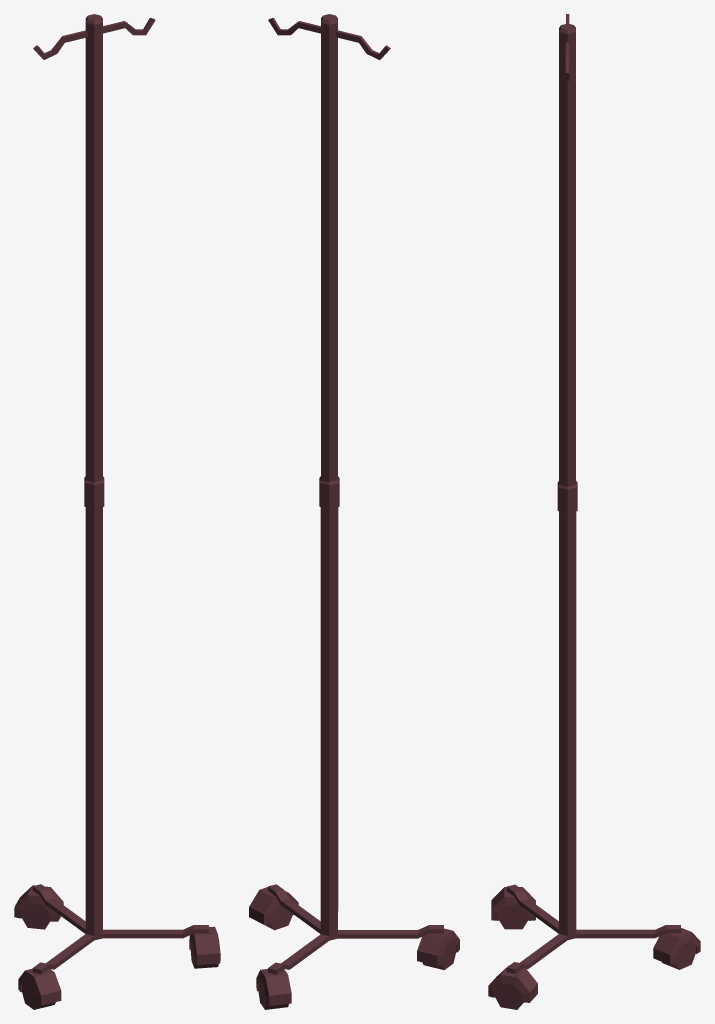
File: iv-pole-empty.fbx
3 views of the same model, side by side, from view 1: azimuth 30°, elevation 25°; view 2: azimuth 150°, elevation 25°; view 3: azimuth 270°, elevation 25° (orthographic).
Visible parts, largest first — view 1: iv-pole-empty; view 2: iv-pole-empty; view 3: iv-pole-empty.
Part boxes in pixels (x1,y1,x2,y2): iv-pole-empty: (14, 14, 220, 1009); iv-pole-empty: (249, 14, 459, 1009); iv-pole-empty: (488, 14, 700, 1009).
Bounding box in the file's own units: 0.4175 × 1.96 × 0.4031.
